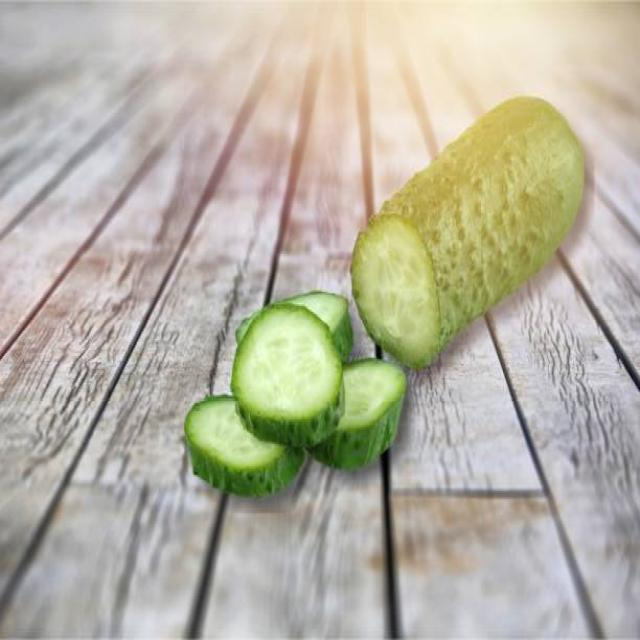cucumber: (350, 93, 583, 367)
